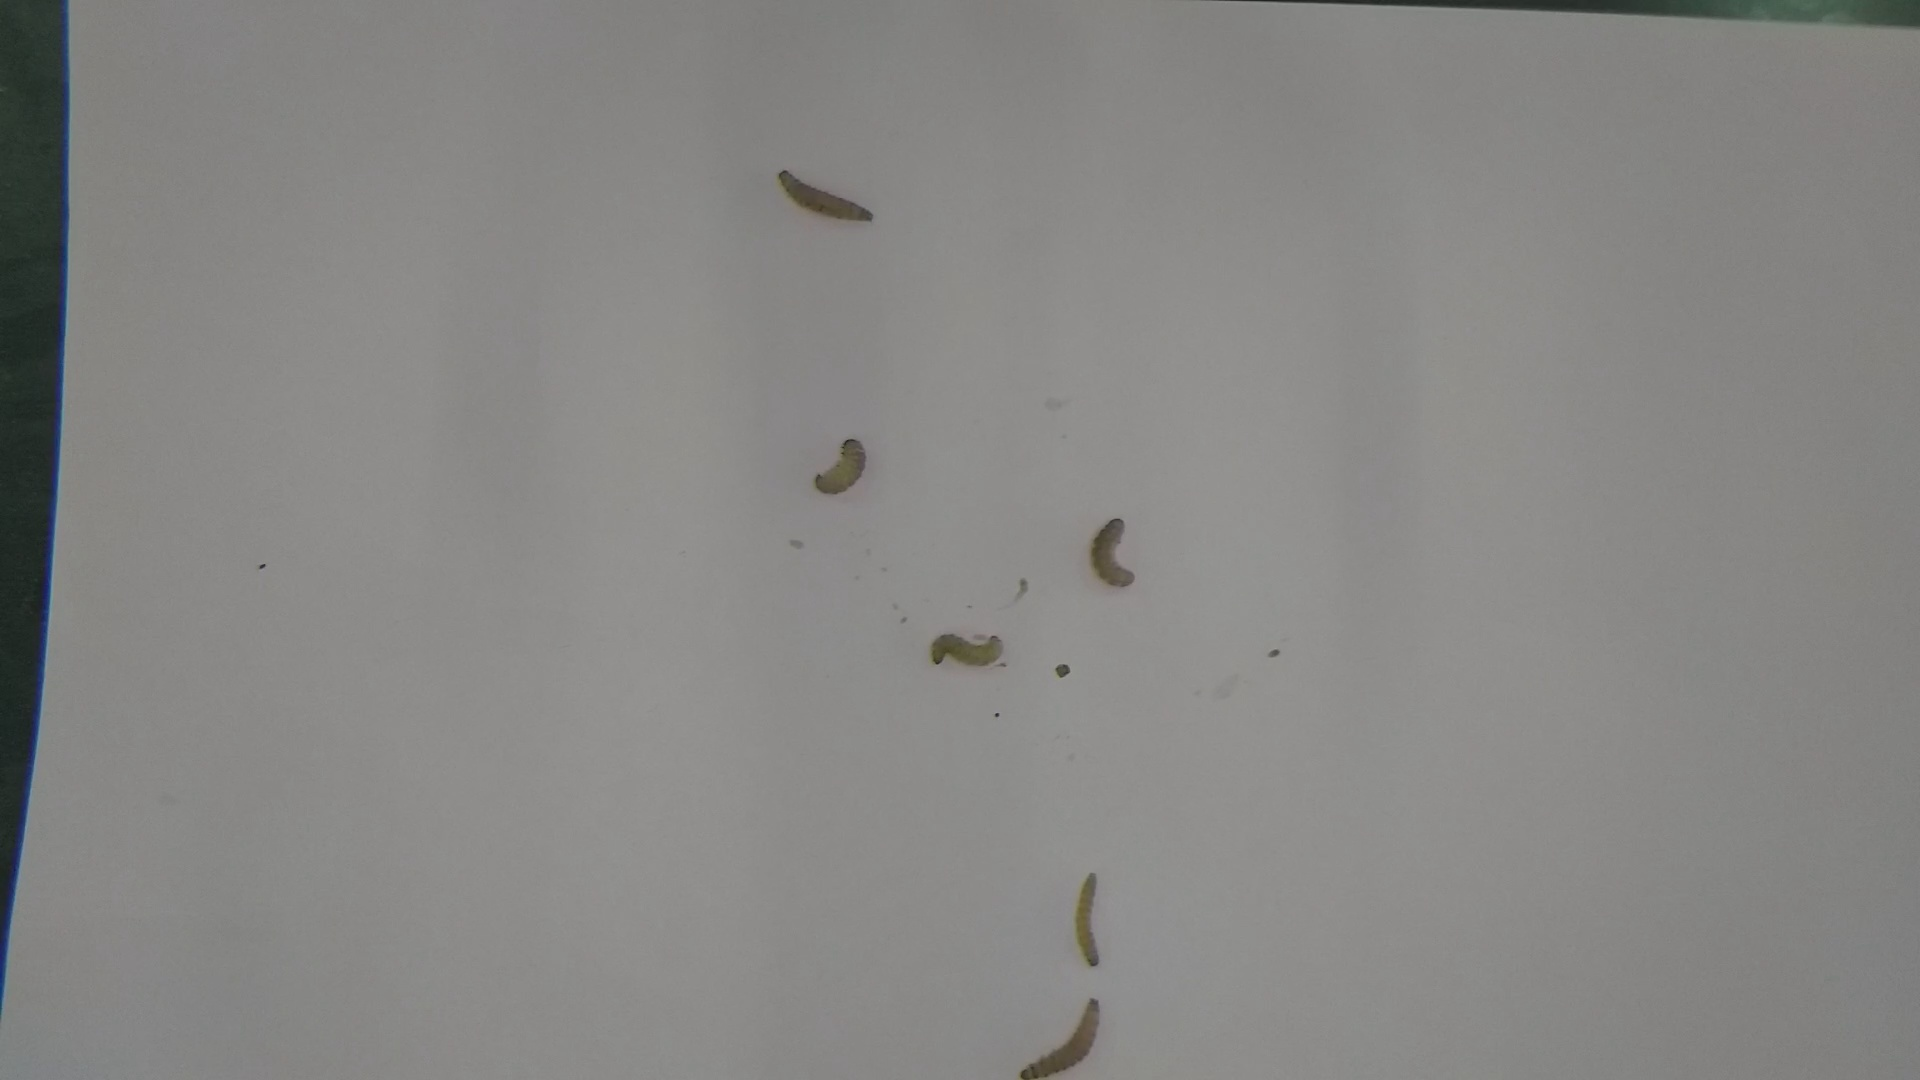efsb: (1011, 994, 1106, 1080), (769, 167, 877, 225), (1081, 512, 1142, 592), (926, 630, 1011, 676), (1073, 862, 1108, 975), (814, 436, 872, 502)
